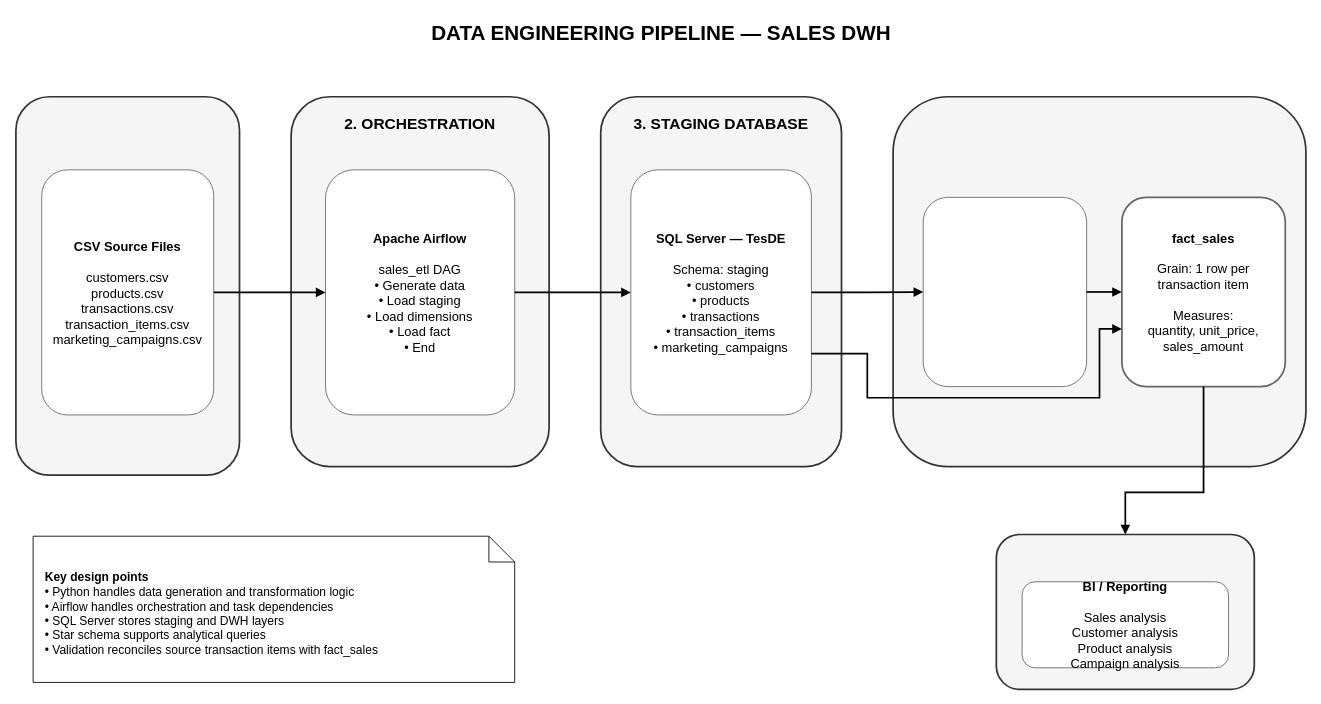
Some shapes in this 1321 by 704 pixel diagram are drawn without their labels. Here are the shapes that lost their labels. From the top down, the box of each, then its label:
(15, 95, 240, 476): 1. RAW DATA
(922, 197, 1087, 387): Dimension Tables dim_customer dim_product dim_date dim_campaign
(892, 95, 1306, 467): 4. DATA WAREHOUSE
(995, 533, 1255, 690): 5. ANALYTICS / CONSUMPTION
